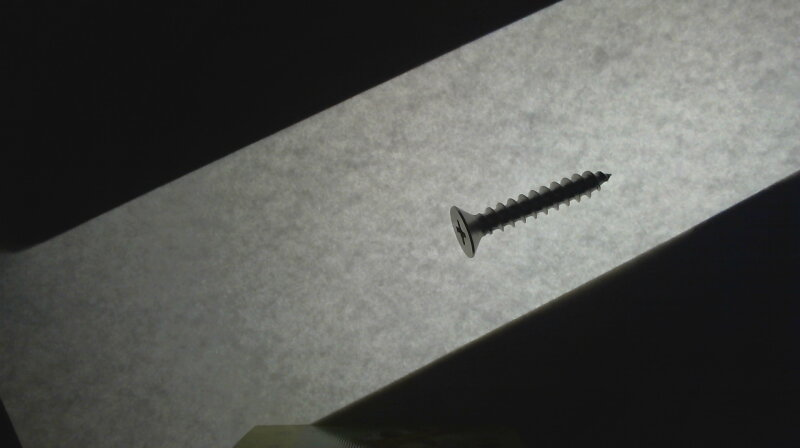S001: (446, 166, 616, 259)
